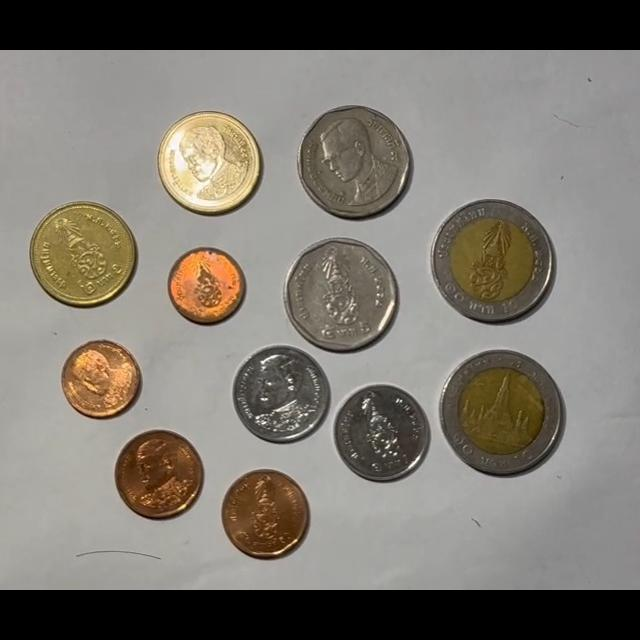1-baht: (333, 384, 432, 482), (232, 345, 330, 443)
10-baht: (439, 350, 564, 475), (430, 200, 554, 323)
2-baht: (31, 202, 137, 308), (158, 110, 263, 215)
25-satang: (62, 340, 142, 419), (168, 246, 245, 324)
5-baht: (297, 105, 413, 219), (284, 237, 399, 351)
50-satang: (114, 430, 203, 518), (221, 469, 309, 558)
